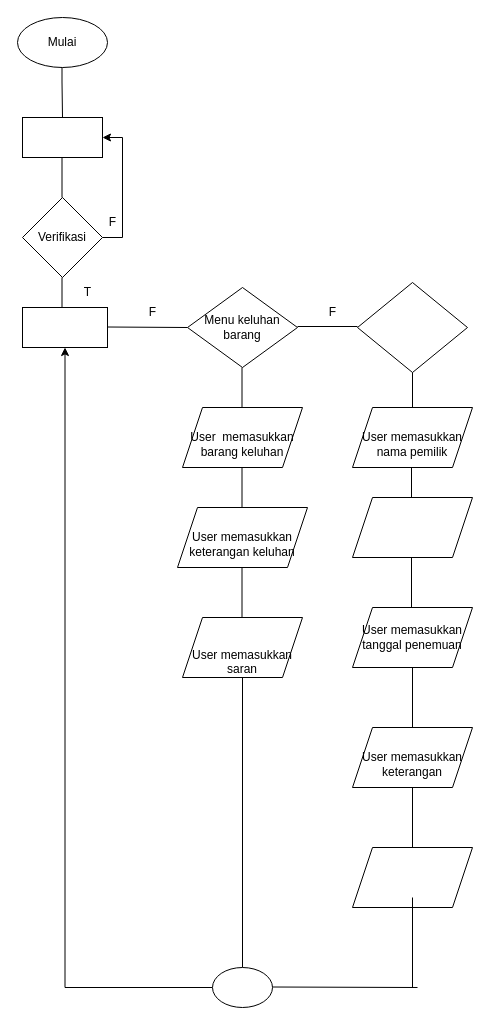
This 490x1025 diagram has some shape labels left out. Here are the shapes that lost their labels. From the top down, the box of each, then its label:
(22, 116, 102, 158): Login
(22, 306, 108, 348): Masuk ke halaman utama
(356, 282, 468, 372): Menu kehilangan barang
(352, 496, 472, 558): User memasukkan nama barang
(352, 846, 472, 908): User mengirim laporan
